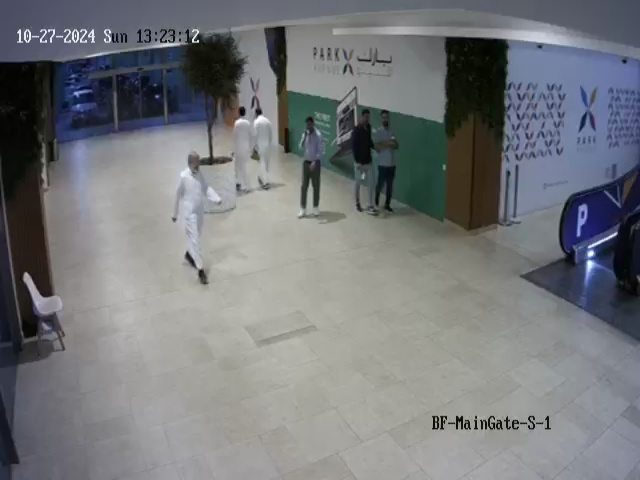male: (171, 150, 223, 285), (351, 110, 379, 215), (372, 109, 399, 213), (297, 116, 324, 219), (232, 106, 253, 195), (251, 107, 273, 191)
